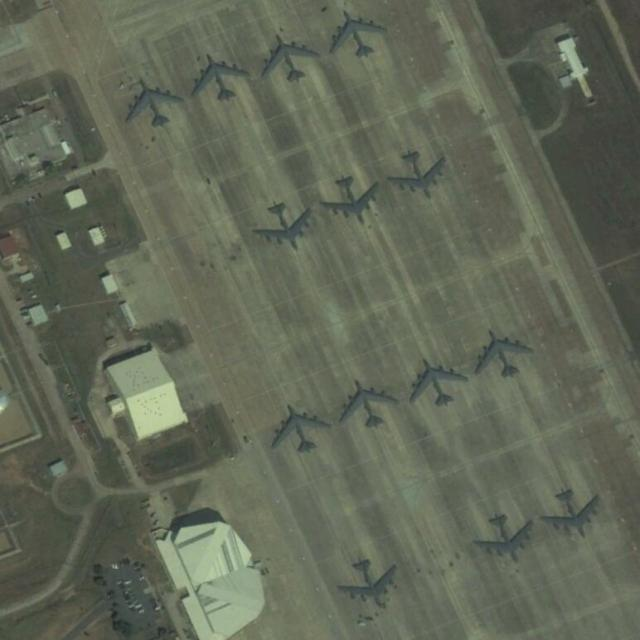fighter jet: (126, 70, 184, 130), (474, 514, 536, 566), (350, 555, 404, 609), (268, 34, 324, 85), (552, 490, 604, 542), (337, 382, 398, 426), (196, 53, 253, 100), (476, 334, 533, 378), (258, 206, 312, 252), (412, 363, 466, 409), (334, 11, 386, 57), (330, 177, 378, 225), (397, 150, 448, 194), (277, 408, 325, 452)
